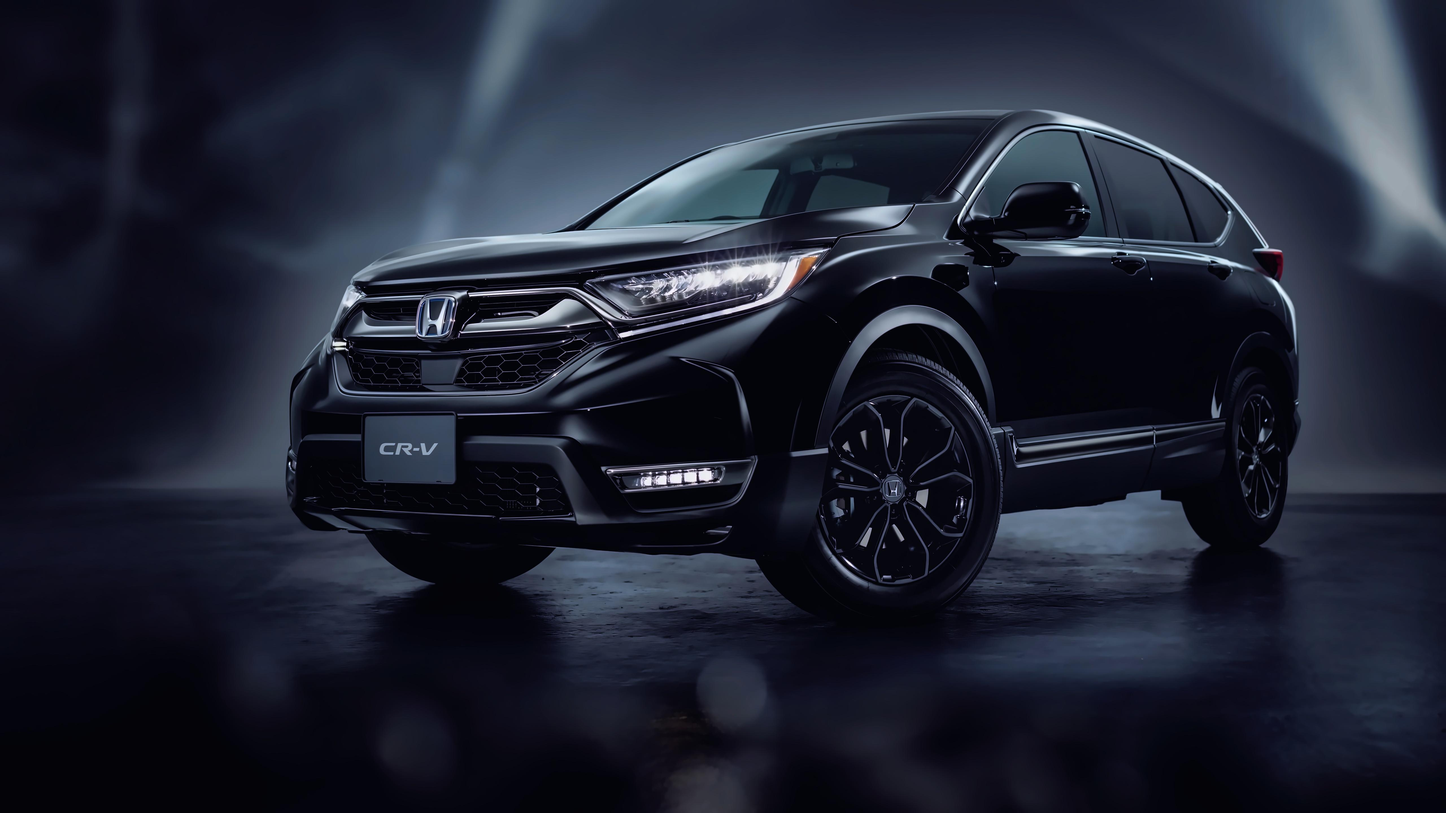Car hood: (346, 193, 919, 310)
Fender - -F-L-: (699, 195, 1002, 435)
Fender - -R-L-: (1208, 247, 1308, 409)
Front bumper: (254, 463, 814, 573)
Headlight - -L-: (585, 237, 828, 337)
Headlight - -R-: (321, 280, 371, 355)
Passenger-s door - -F-L-: (964, 112, 1163, 489)
Passenger-s door - -R-L-: (1076, 116, 1243, 465)
Rear bumper: (1256, 356, 1318, 469)
Rear light - -L-: (1250, 239, 1290, 284)
Side bumper - -L-: (993, 425, 1239, 542)
Side mirror - -L-: (993, 178, 1096, 251)
